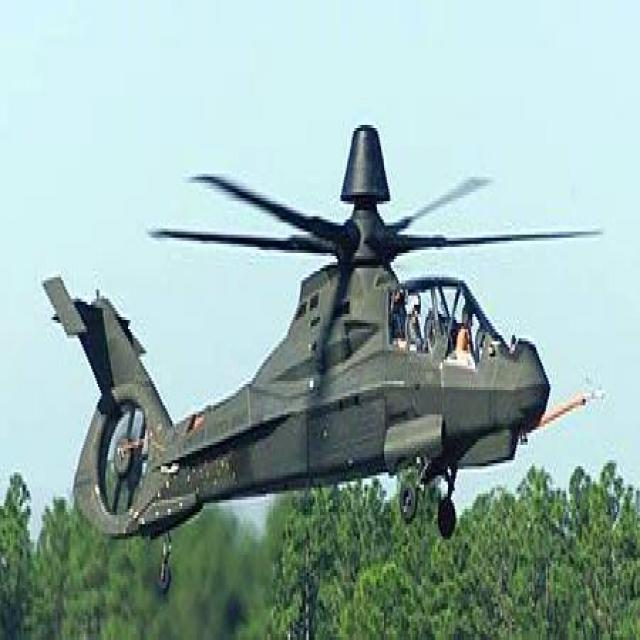MIL_HELO: (44, 108, 619, 549)
